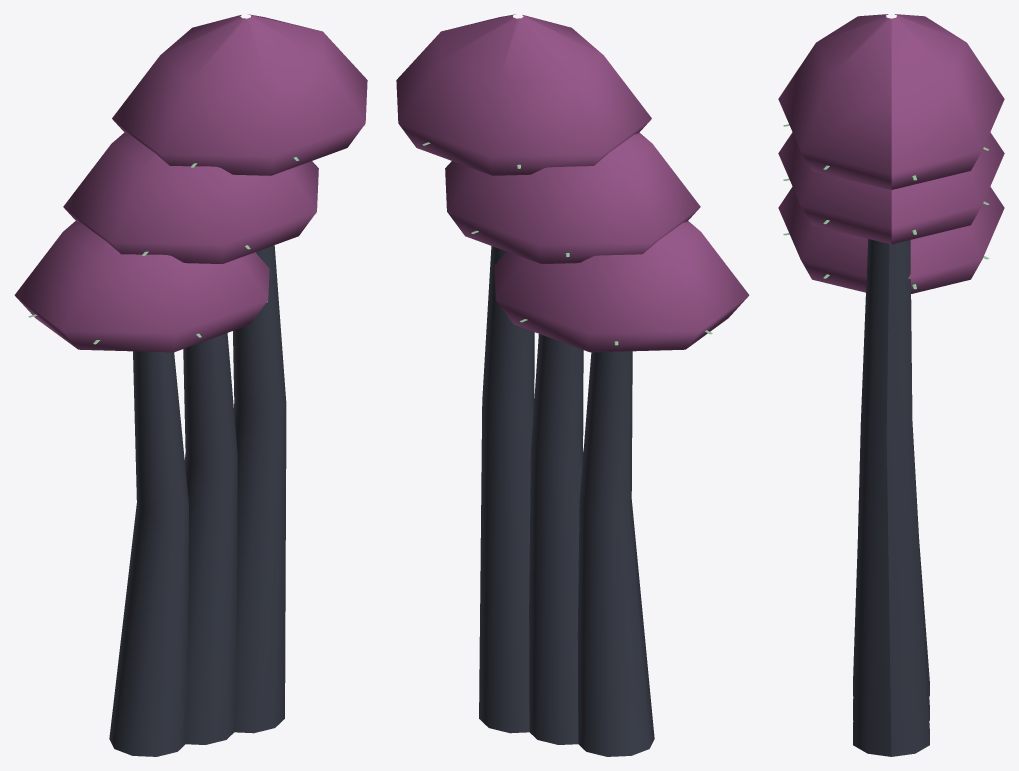
Rendered from prop_1_3.glb.
The picture shows the model from 3 angles, left to right: view 1: azimuth 30°, elevation 25°; view 2: azimuth 150°, elevation 25°; view 3: azimuth 270°, elevation 25°; orthographic projection. The views are drawn at different scales.
Parts seen in each view (by area): view 1: FungalCap (×3), FungalStem (×3); view 2: FungalCap (×3), FungalStem (×3); view 3: FungalCap (×3), FungalStem.
Part boxes in pixels (x1=…): FungalCap (×3): x1=14, y1=14, x2=367, y2=352; FungalStem (×3): x1=109, y1=245, x2=286, y2=756; FungalCap (×3): x1=396, y1=14, x2=749, y2=352; FungalStem (×3): x1=479, y1=246, x2=654, y2=756; FungalCap (×3): x1=778, y1=14, x2=1004, y2=293; FungalStem: x1=853, y1=239, x2=929, y2=756.
Size of the model in its own units: 4.05 by 8.25 by 2.34.
